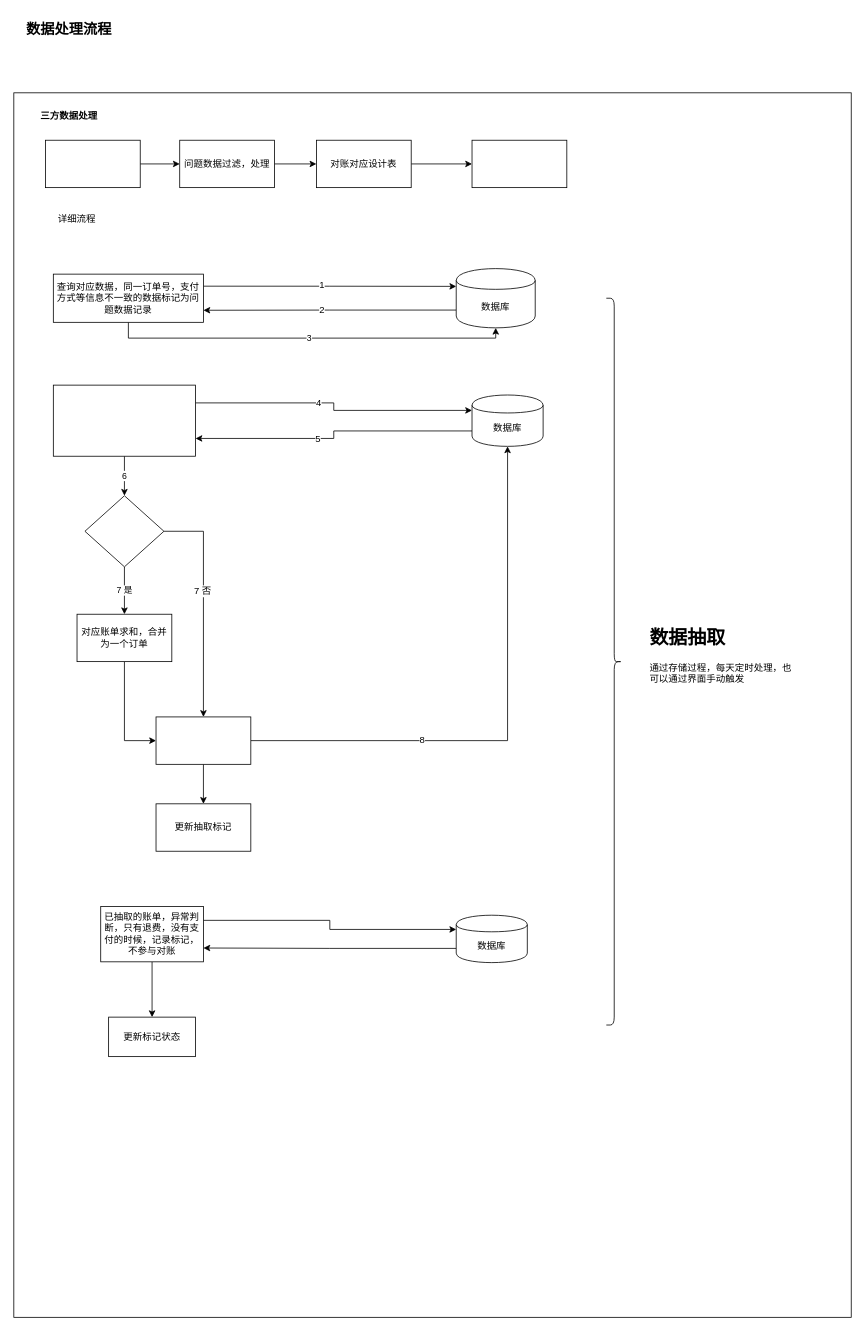
Some shapes in this 865 by 1331 pixel diagram are drawn without their labels. Here are the shapes that lost their labels. From the top down, the box of each, then its label:
(45, 139, 140, 188): 三方数据初始表
(471, 139, 567, 188): 逻辑异常数据标记
(53, 384, 196, 456): 开始数据抽取
(84, 495, 164, 567): 是否合并支付
(155, 716, 251, 764): 形成新的订单数据
